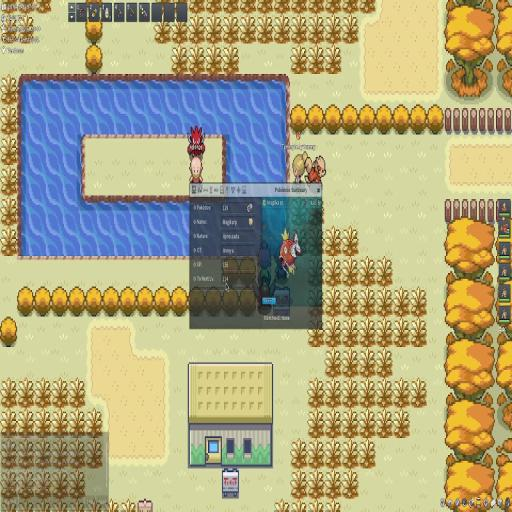SKIPANOUCE: (190, 185, 312, 326)
